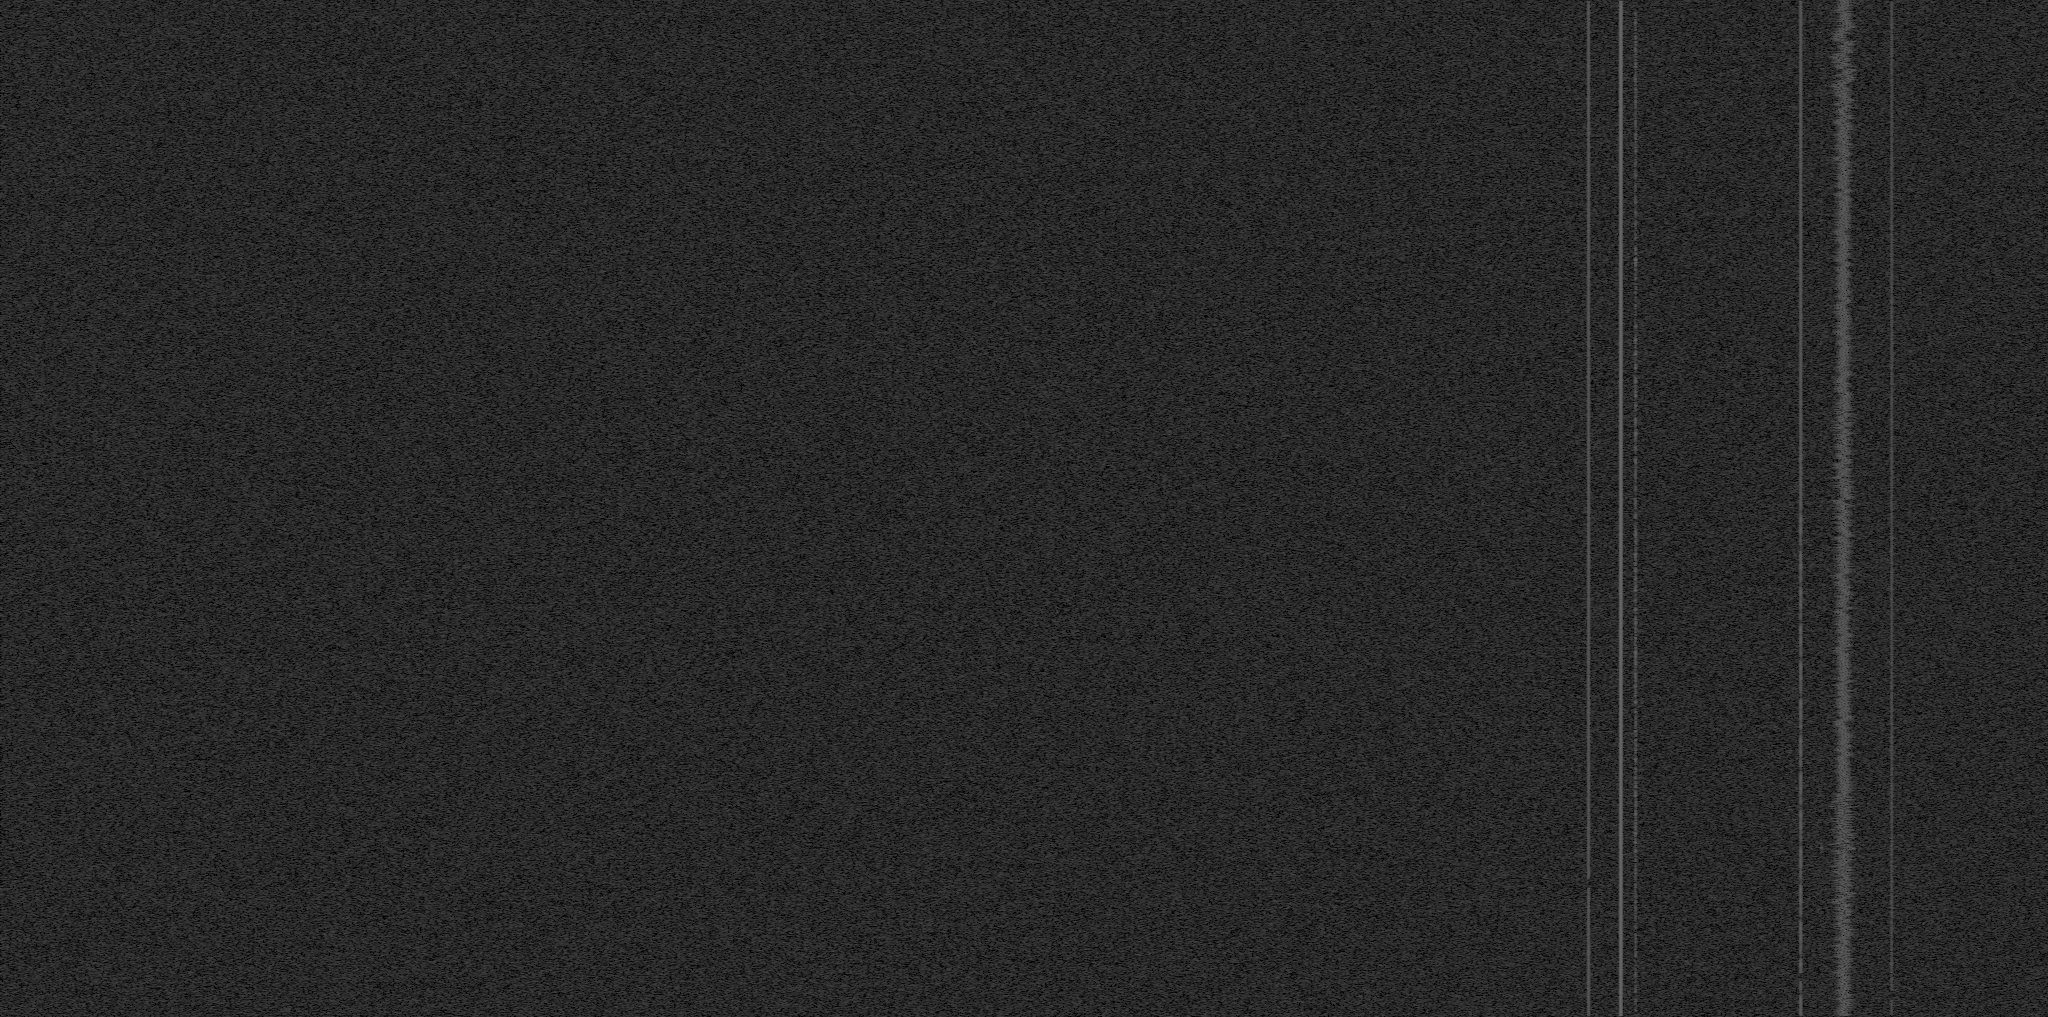wv_am: (1799, 0, 1804, 973), (1799, 980, 1804, 1016)
wv_cw: (1617, 0, 1624, 1016), (1889, 0, 1894, 991), (1586, 0, 1591, 879), (1586, 888, 1591, 1016), (1889, 1000, 1894, 1016)
wv_usb: (1633, 7, 1639, 995), (1819, 418, 1823, 461), (1819, 373, 1823, 416), (1819, 326, 1823, 369), (1819, 132, 1823, 175), (1819, 230, 1823, 270), (1819, 181, 1823, 221), (1819, 90, 1823, 125), (1819, 474, 1823, 507), (1819, 286, 1823, 319), (1819, 920, 1823, 948), (1633, 996, 1638, 1016), (1819, 529, 1823, 552), (1819, 836, 1823, 856), (1819, 973, 1823, 992), (1819, 679, 1823, 698), (1819, 886, 1823, 905), (1819, 587, 1823, 604), (1819, 8, 1823, 25), (1819, 862, 1823, 876), (1819, 1003, 1823, 1016), (1819, 821, 1823, 833), (1819, 70, 1823, 82), (1819, 59, 1823, 70), (1819, 46, 1823, 57), (1819, 631, 1823, 641), (1819, 811, 1823, 820), (1819, 789, 1823, 798), (1819, 774, 1823, 783), (1819, 764, 1823, 773), (1819, 35, 1823, 44), (1819, 994, 1823, 1001), (1819, 960, 1823, 967), (1819, 950, 1823, 957), (1819, 911, 1823, 918), (1819, 727, 1823, 734), (1819, 272, 1823, 278), (1819, 752, 1823, 757), (1819, 715, 1823, 721), (1819, 582, 1823, 587), (1819, 279, 1823, 285), (1819, 26, 1823, 31), (1819, 803, 1823, 807), (1819, 785, 1823, 789), (1819, 747, 1823, 751), (1819, 742, 1823, 745), (1819, 722, 1823, 726), (1819, 705, 1823, 709), (1819, 648, 1823, 651), (1819, 644, 1823, 648), (1819, 554, 1823, 557), (1819, 319, 1823, 322), (1819, 84, 1823, 87), (1819, 877, 1823, 880), (1819, 799, 1823, 802), (1819, 738, 1823, 740), (1819, 176, 1823, 179)
wv_wbfm: (1826, 0, 1861, 1016)
